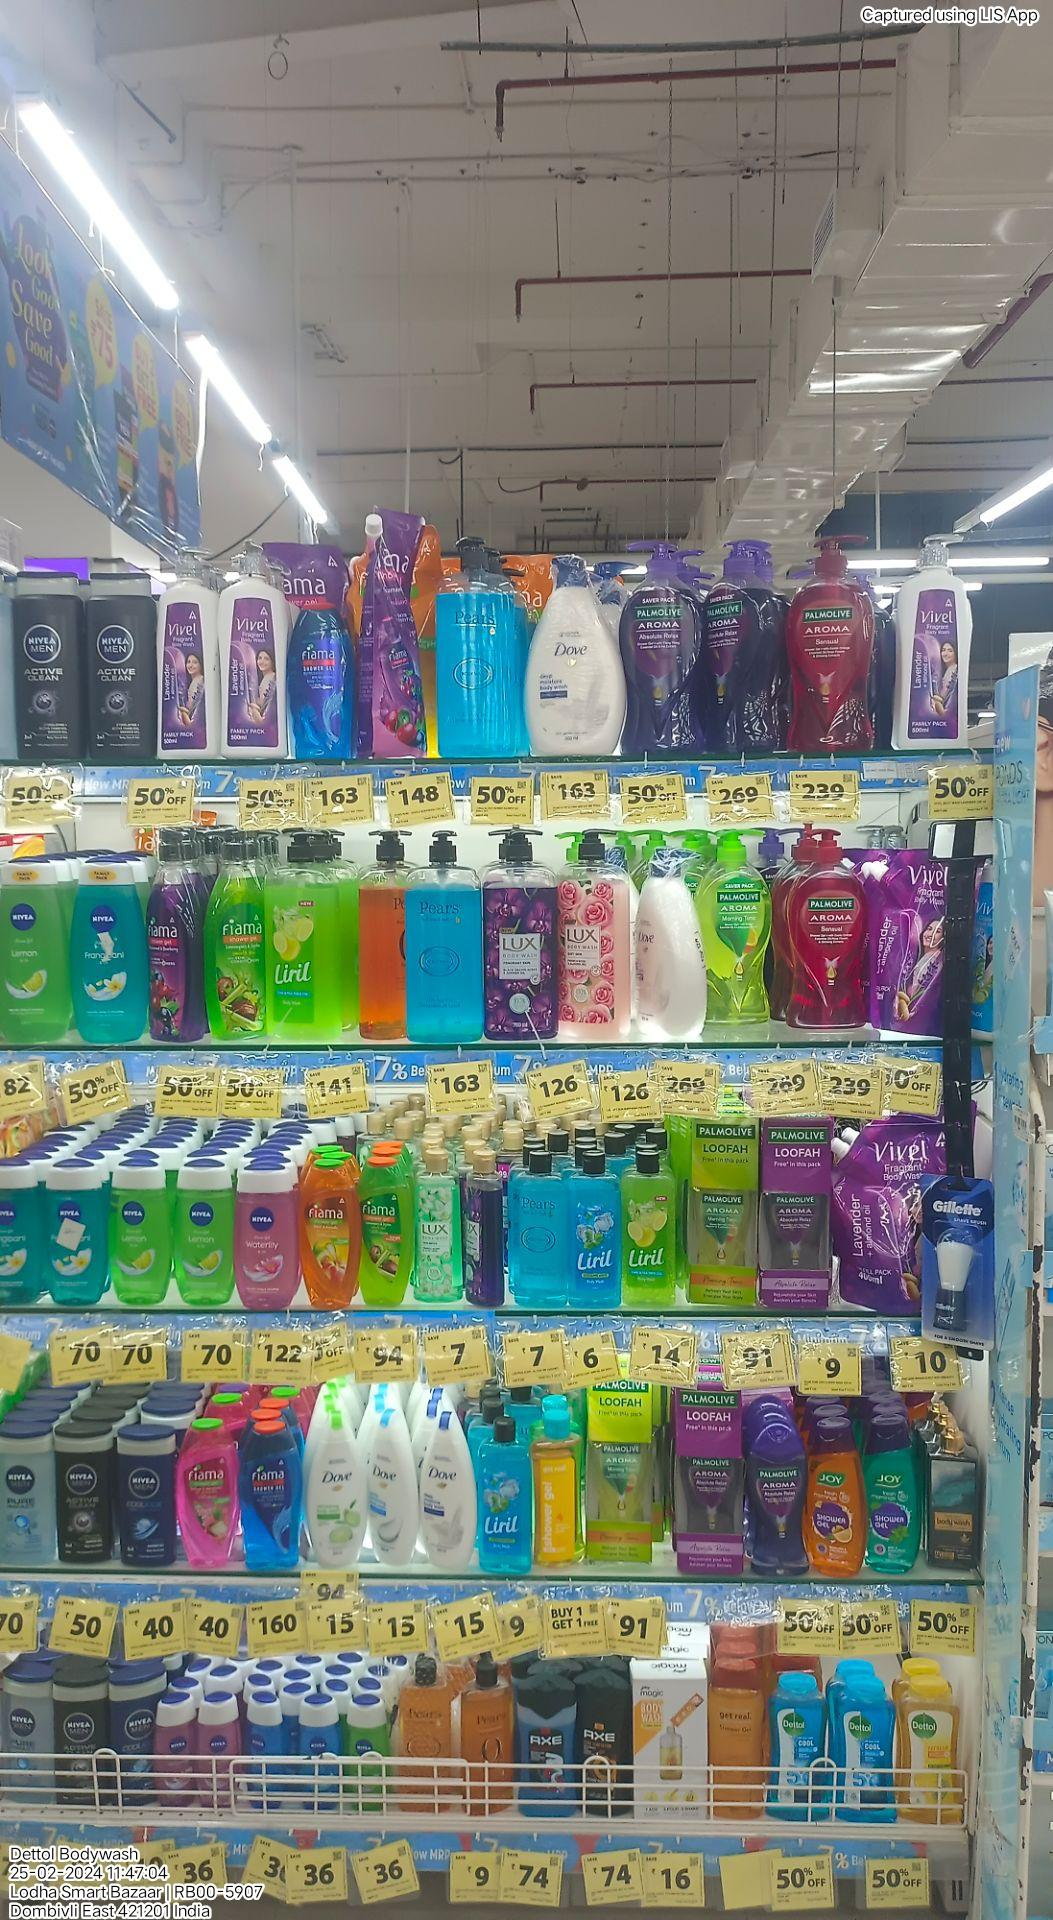Dettol_Bodywash_Cool: (768, 1679, 831, 1821), (836, 1681, 896, 1821)
Dettol_Bodywash_Refresh: (903, 1683, 962, 1824)
Dove_Deep_Moisture_Body_Wash_250ML: (421, 1413, 475, 1570)
Dove_Gentle_Exfoliating_Body_Wash_250ML: (370, 1409, 418, 1566)
Dove_Refreshing_Body_Wash_250ML: (309, 1412, 368, 1569)
Fiama_Shower_Gel_Lemongrass_and_Jojoba_250ML: (361, 1160, 412, 1308)
Fiama_Shower_Gel_Patchouli_and_Macadamia_250ML: (178, 1422, 239, 1567)
Fiama_Shower_Gel_Peach_and_Avocado_250ML: (301, 1160, 357, 1309)
Get_Real_Shower_Gel_Moisturising_Glycerin_300ML: (709, 1667, 764, 1818)
Joy_Shower_Gel_Mandarin_and_Lemongrass_250ML: (808, 1421, 866, 1578)
Joy_Shower_Gel_Mint_and_Eucalyptus_250ML: (869, 1420, 923, 1575)
Liril_Cooling_Mint_Body_Wash_250ML: (480, 1420, 530, 1573), (576, 1153, 625, 1307)
Liril_Lime_and_Tea_Tree_Oil_Body_Wash_250ML: (628, 1150, 678, 1303)
Lux_Black_Orchid_Scent_and_Juniper_Oil_Body_Wash_245ML: (466, 1150, 502, 1305)
Lux_Body_Wash_Skin_Detox_Freesia_Scent_and_Alove_Vera_245ML: (414, 1151, 462, 1302)
Nivea_Shower_Gel_Frangipani_and_Oil_250ML: (74, 862, 144, 1042), (44, 1164, 102, 1307), (0, 1164, 34, 1308)
Nivea_Shower_Gel_Lemon_and_Oil_250ML: (1, 861, 69, 1044), (174, 1165, 232, 1305), (114, 1167, 170, 1303)
Nivea_Shower_Gel_Waterlily_and_Oil_250ML: (237, 1169, 298, 1309)
Palmolive_Aroma_Relax_250ML: (748, 1425, 807, 1575)
Pears_Pure_Glycerin_and_Mint_Extracts_Body_Wash_250ML: (511, 1153, 574, 1305)
